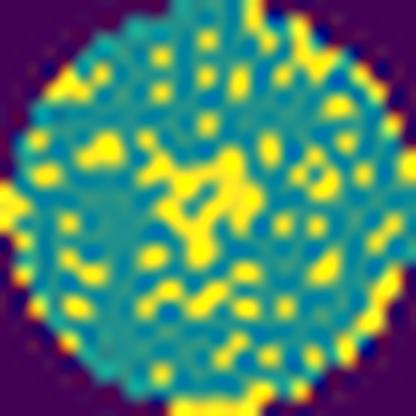Center: (128, 121, 275, 274)
